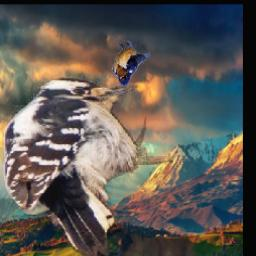Swallow: (112, 40, 151, 86)
Woodpecker: (0, 75, 173, 256)
